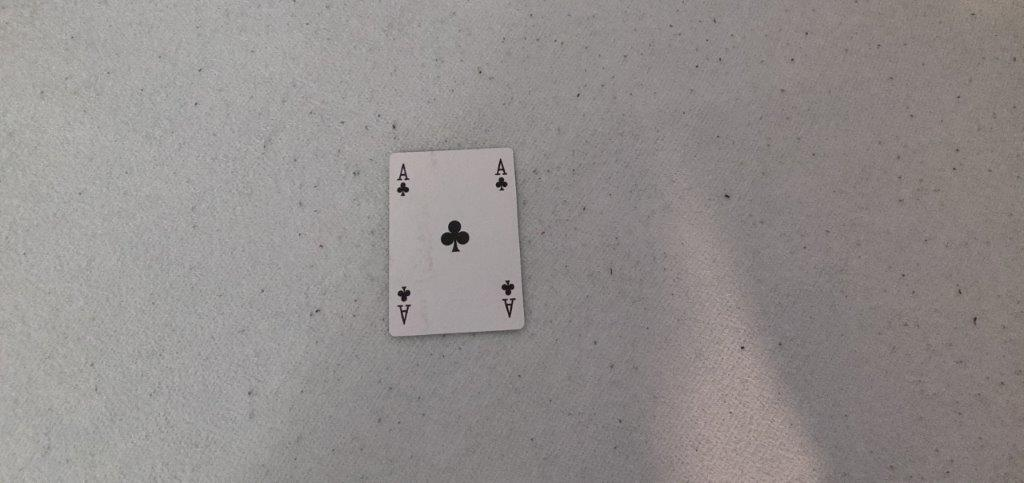AC: (490, 155, 512, 195), (392, 162, 414, 198)
